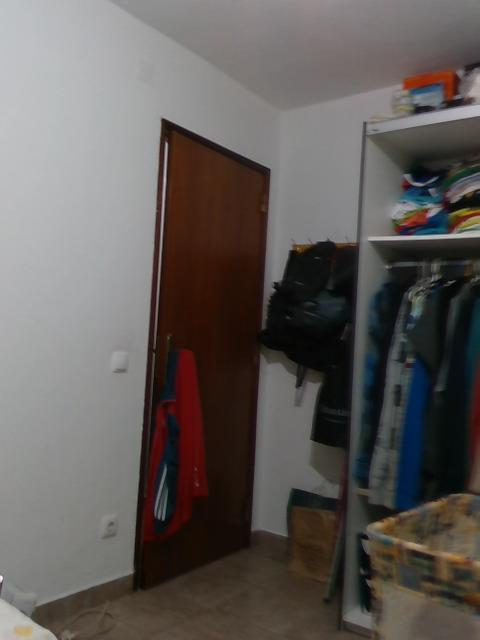door: (131, 120, 269, 586)
